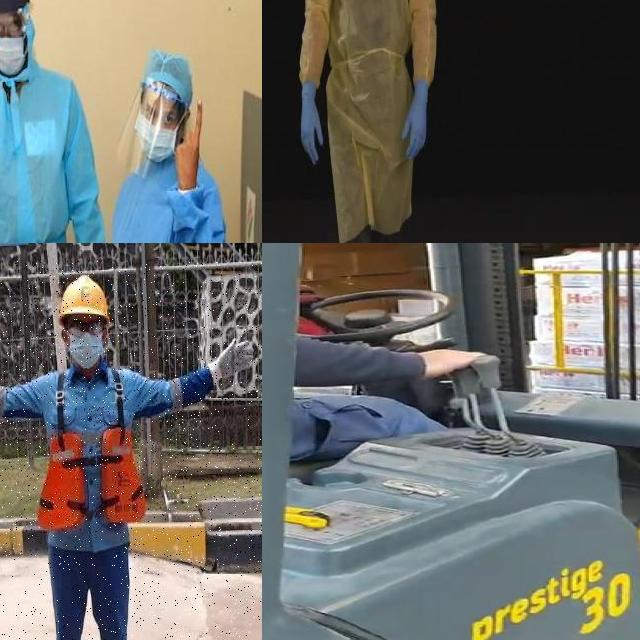GLASS: (62, 319, 106, 338)
GLOVE: (210, 337, 255, 383), (300, 84, 322, 164), (406, 81, 426, 156)
HELMET: (57, 269, 115, 327)
MASK: (132, 108, 185, 179), (0, 40, 32, 79)
VEST: (34, 373, 154, 546)
